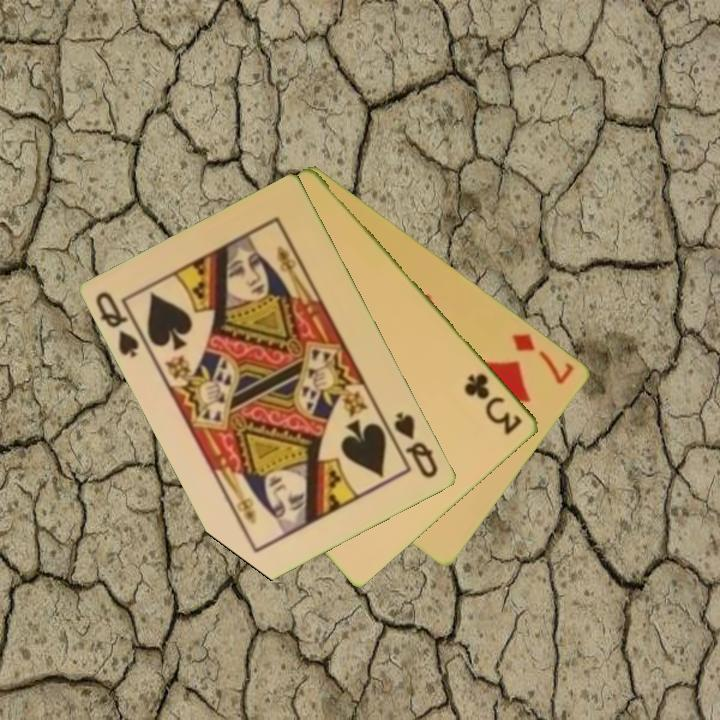3c: (461, 369, 526, 438)
7d: (509, 330, 577, 387)
Qs: (391, 408, 442, 481), (92, 288, 143, 361)
